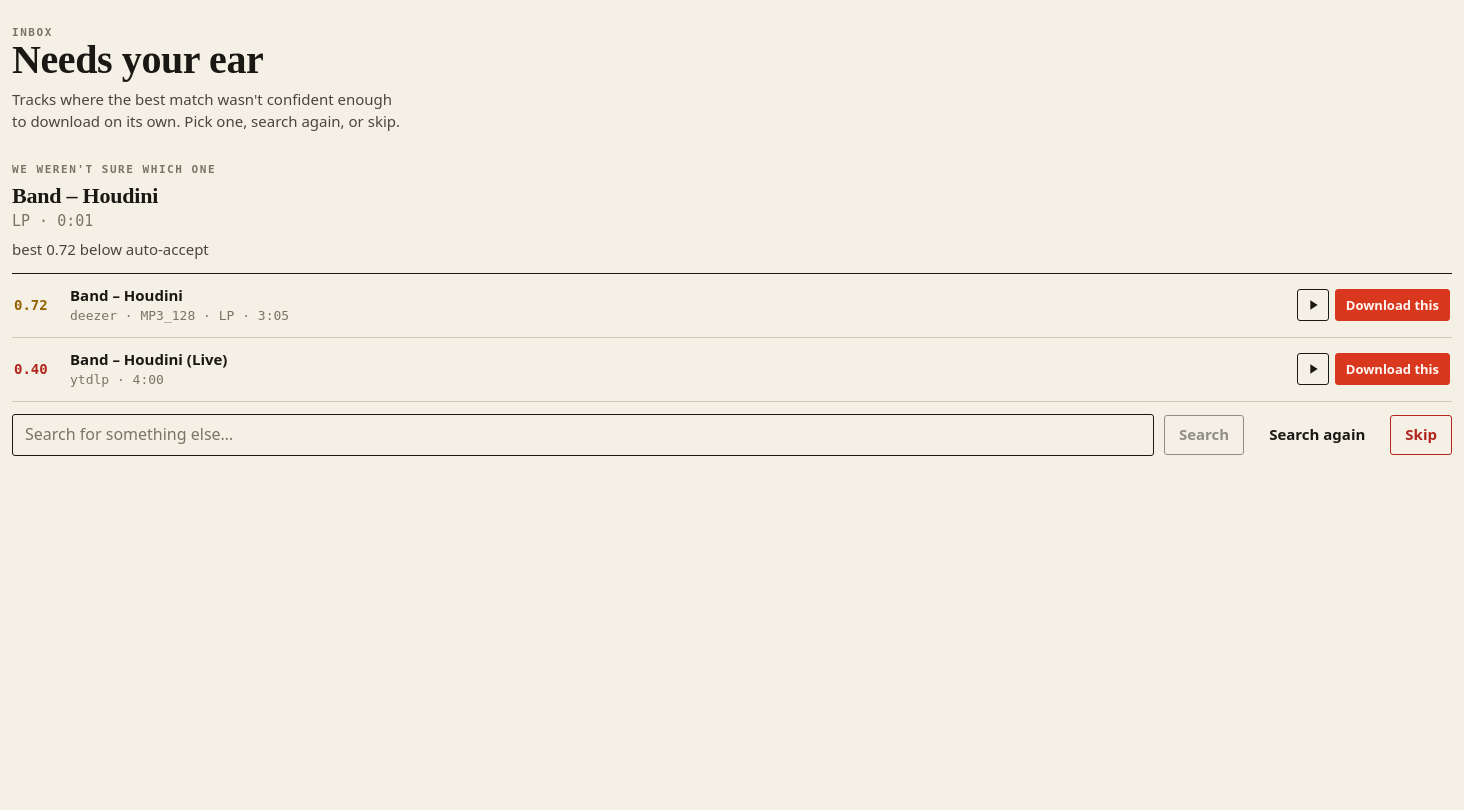
Test: inbox › falls back to opening the YouTube video in a new tab when the clip cannot be made
Expected: the heading "Band – Houdini" is shown, [12,180,158,211]
Click the button named "Preview Band – Houdini (Live)": (1313, 369) [1297,353,1329,385]
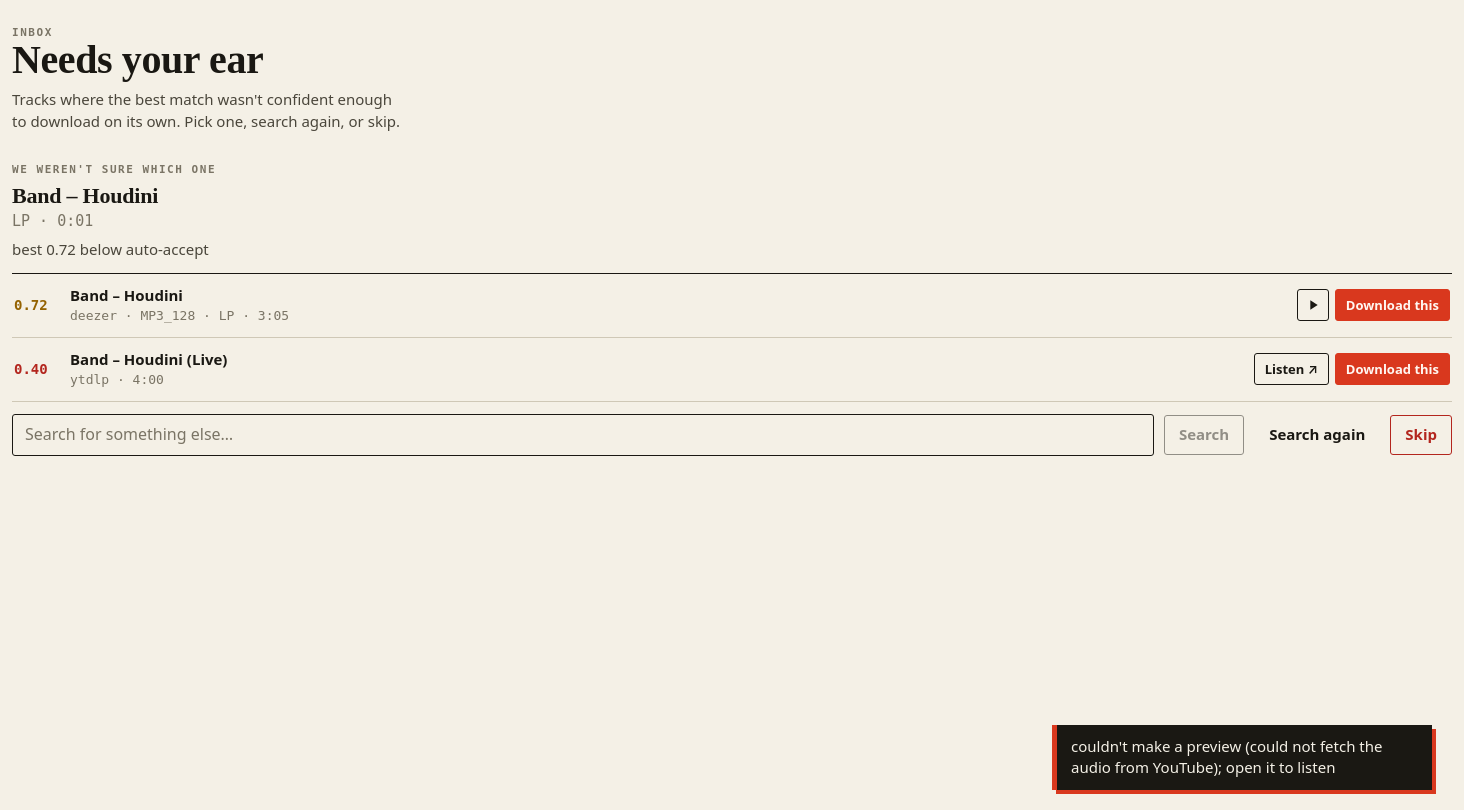
Expected: the text "couldn't make a preview" is shown, [1071,736,1382,777]
